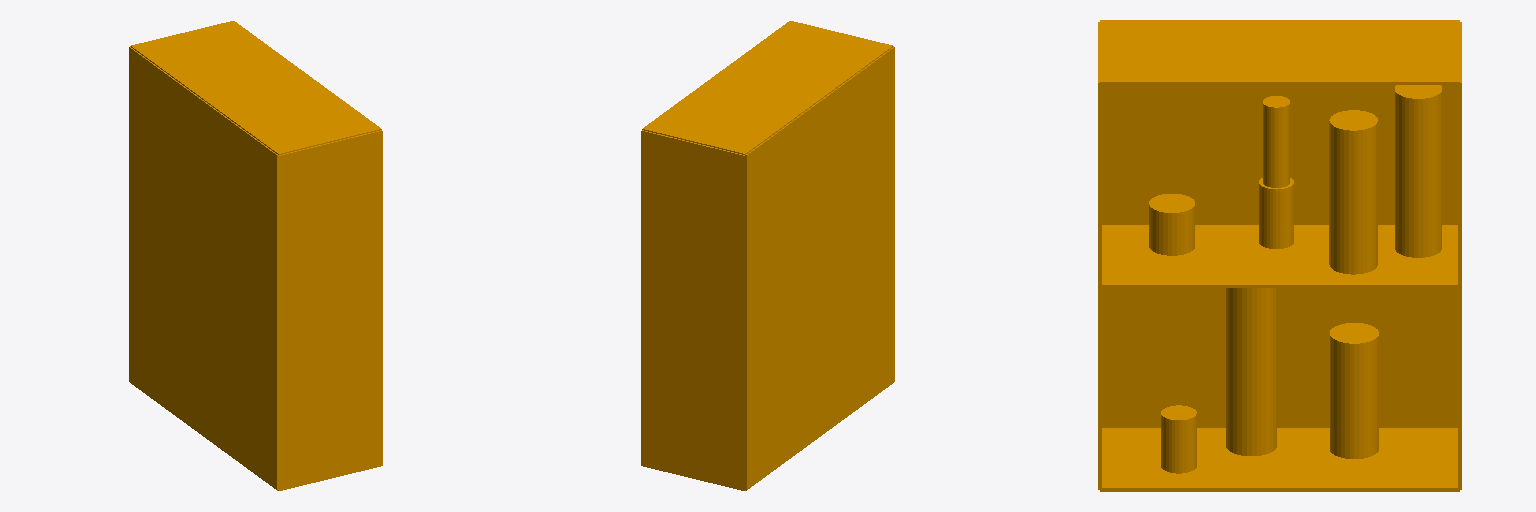
URDF robot description (syn_can_cabinet_967):
<?xml version="1.0" ?>
<robot name="syn_can_cabinet_967">
    <link concave="yes" name="base_link">
        <inertial>
            <origin rpy="0 0 0" xyz="0 0 0"/>
            <mass value="0.0"/>
            <inertia ixx="1e-08" ixy="0" ixz="0" iyy="1e-08" iyz="0" izz="1e-08"/>
        </inertial>
        <visual>
            <origin xyz="0 0 0" rpy="0 0 0" />
            <geometry>
                <mesh filename="syn_can_cabinet_967.obj" scale="1.000000 1.000000 1.000000"/>
            </geometry>         
        </visual>

        <collision concave="yes">
            <origin xyz="0 0 0" rpy="0 0 0"/>
            <geometry>
                <mesh filename="syn_can_cabinet_967.obj" scale="1.000000 1.000000 1.000000"/>
            </geometry>
        </collision>
    </link>
</robot>
    

--- Facts derived from the render (not from the file) ---
Views: 3 orthographic renders of the robot side by side, from view 1: azimuth 30°, elevation 25°; view 2: azimuth 150°, elevation 25°; view 3: azimuth 270°, elevation 25°.
Robot: syn_can_cabinet_967 — 1 links, 0 joints (none); root link base_link; default pose: all joints at 0.
Visible links, largest first — view 1: base_link; view 2: base_link; view 3: base_link.
Boxes of the visible links, <box> form: base_link: <box>129,21,382,490</box>; base_link: <box>641,21,894,490</box>; base_link: <box>1098,20,1461,491</box>.
Size in the robot's own frame: 0.1835 by 0.4553 by 0.5667 metres.
1 mesh visuals loaded from 1 distinct referenced files (1 OBJ).
